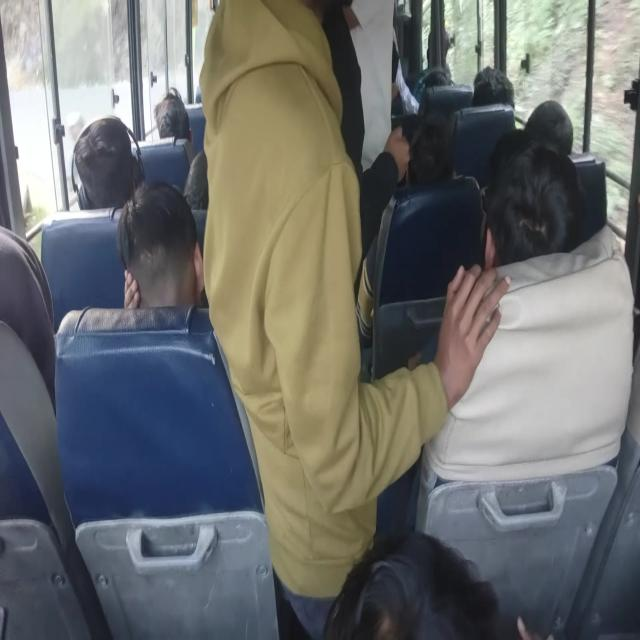person: (199, 1, 510, 636), (322, 530, 544, 638), (482, 135, 587, 268), (116, 179, 205, 309), (71, 115, 144, 210), (524, 99, 573, 155), (152, 86, 190, 142), (471, 65, 515, 108), (182, 148, 208, 211)
